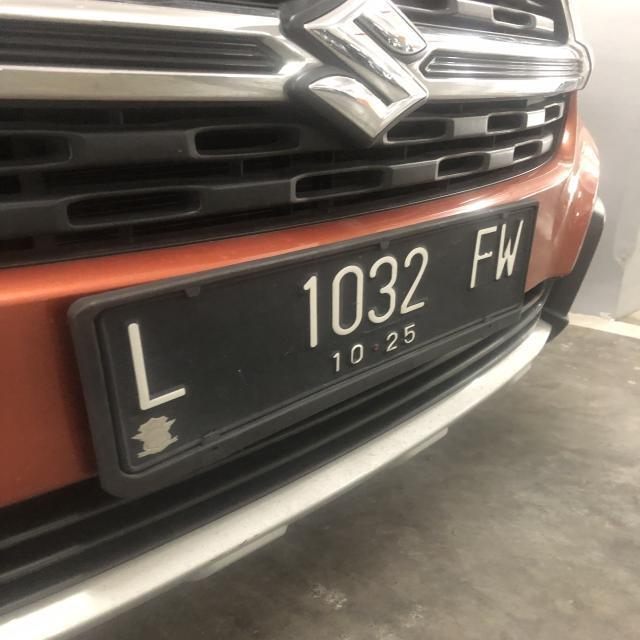0: (328, 262, 366, 336)
1: (297, 266, 324, 352)
2: (398, 244, 434, 316)
3: (366, 250, 396, 324)
F: (462, 222, 497, 296)
L: (124, 319, 190, 410)
W: (497, 216, 527, 282)
